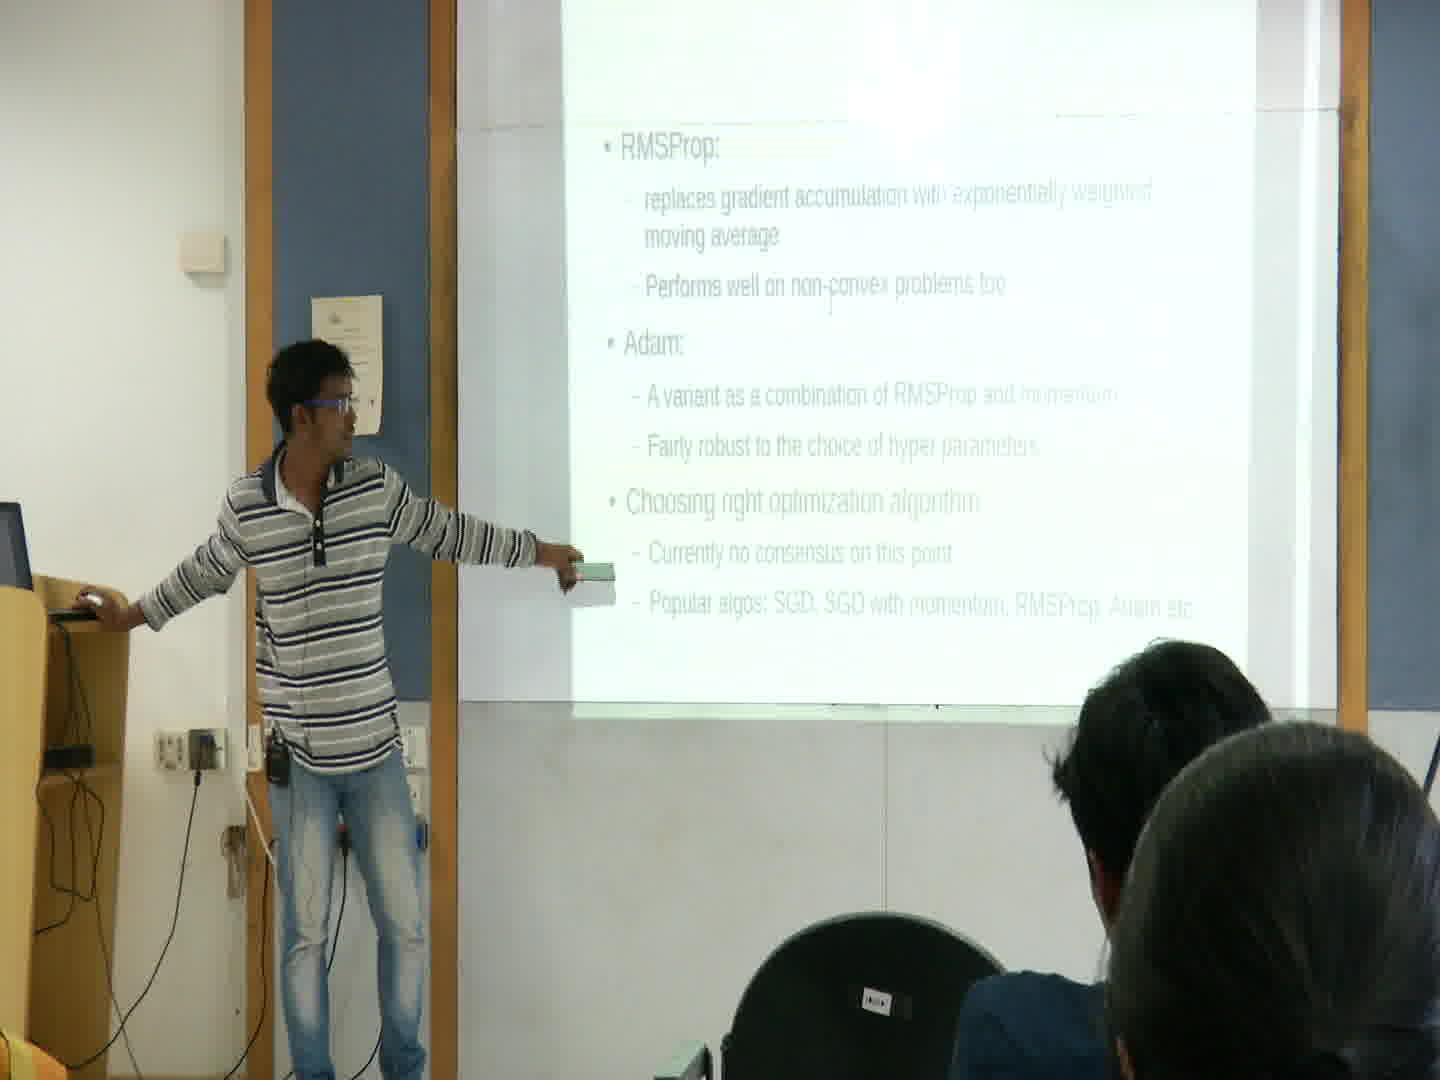slide: (562, 2, 1252, 725)
